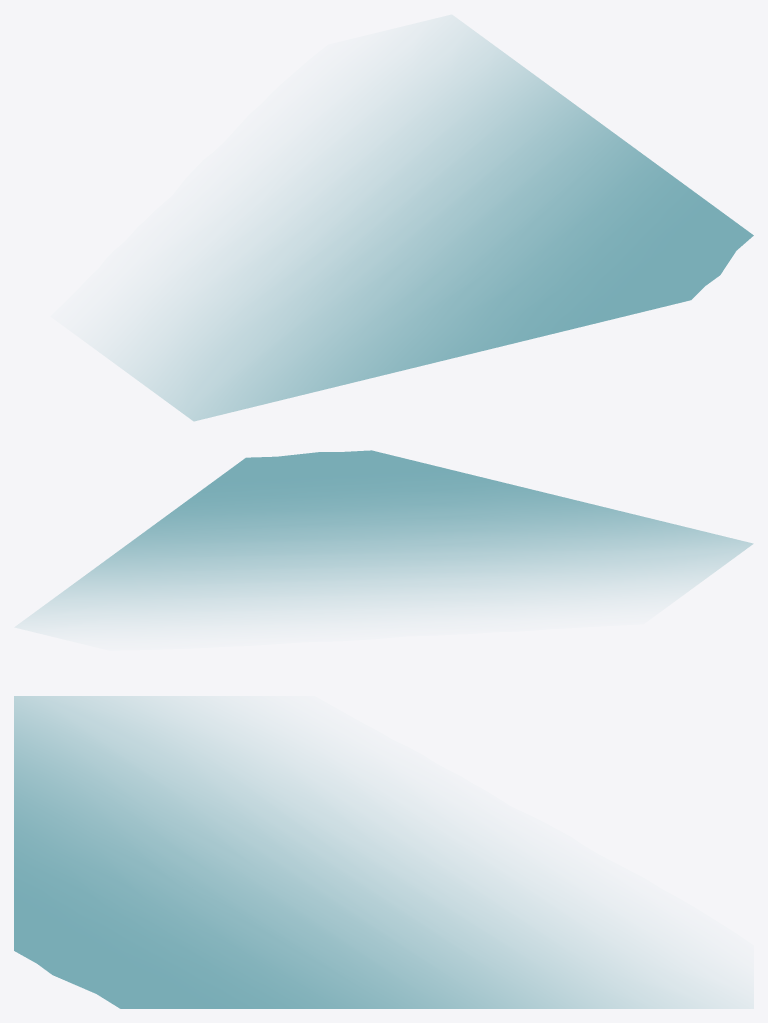
The picture shows the model from 3 angles, top to bottom: view 1: azimuth 30°, elevation 25°; view 2: azimuth 150°, elevation 25°; view 3: azimuth 270°, elevation 25°; orthographic projection. The views are drawn at different scales.
Parts seen in each view (by area): view 1: city; view 2: city; view 3: city.
Part boxes in pixels (x1,y1,x2,y2): city: [106, 15, 753, 421]; city: [16, 450, 753, 627]; city: [14, 696, 753, 1008].
Bounding box in the file's own units: 500 × 0 × 500.
